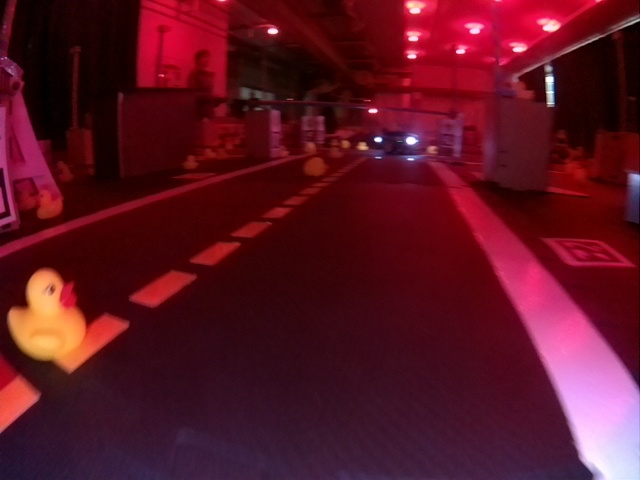Duckie: (9, 269, 86, 357), (35, 189, 64, 220), (303, 158, 326, 176), (182, 154, 198, 170), (357, 142, 369, 151), (427, 145, 437, 154)
QR code: (546, 239, 632, 266)
